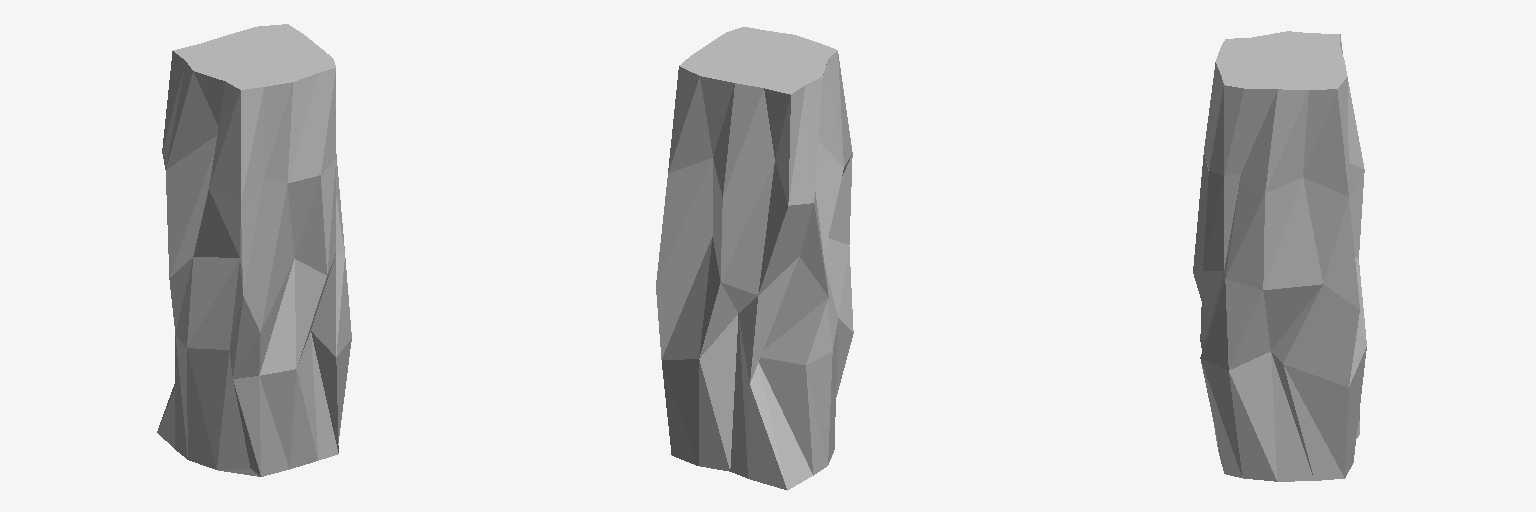
The model's file is tree_branch.obj.
The picture shows the model from 3 angles: view 1: azimuth 30°, elevation 25°; view 2: azimuth 150°, elevation 25°; view 3: azimuth 270°, elevation 25°; orthographic projection.
Visible parts, largest first — view 1: Cube; view 2: Cube; view 3: Cube.
Boxes of the visible parts, x1=… form: Cube: x1=157, y1=24, x2=351, y2=476; Cube: x1=656, y1=27, x2=853, y2=490; Cube: x1=1193, y1=31, x2=1366, y2=481.
Size of the model in its own units: 2.49 by 6.32 by 2.54.